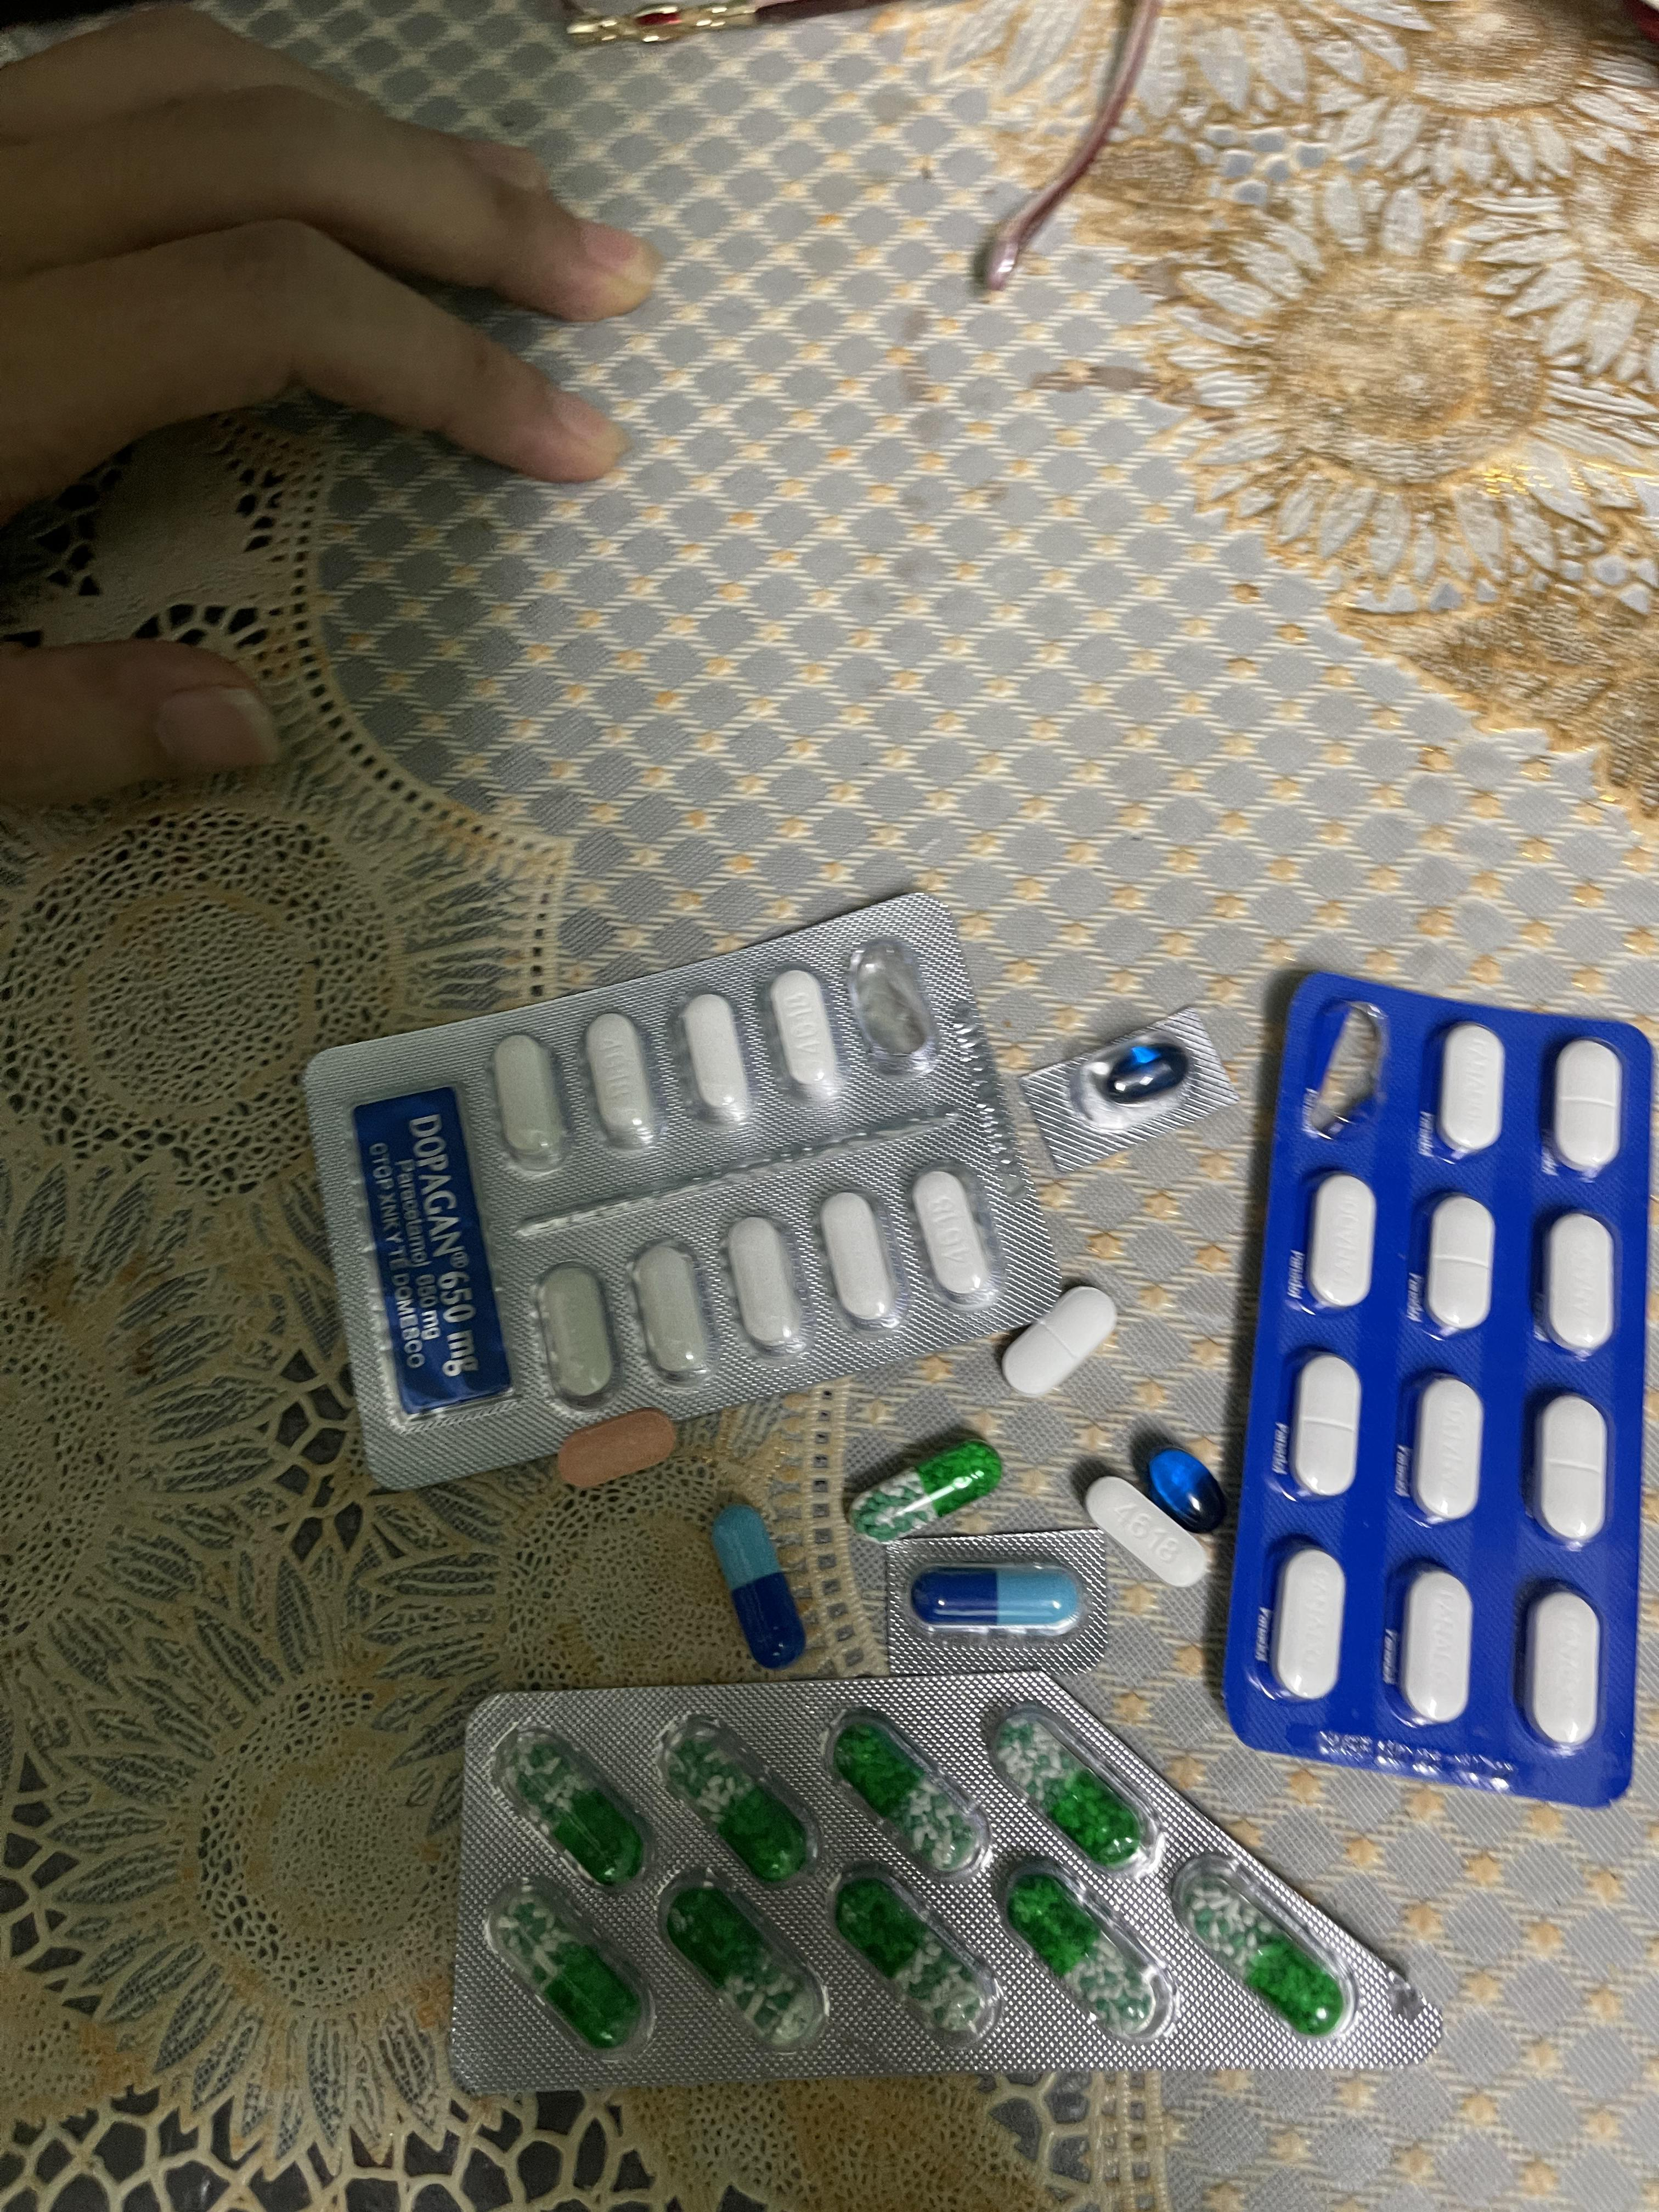Lincomyxin_500mg: (1148, 1447, 1230, 1533), (1100, 1043, 1185, 1104)
Loratadine_10mg: (556, 1407, 680, 1491)
Paracetamol_350mg: (1000, 1285, 1119, 1400), (1523, 1588, 1601, 1749), (1396, 1568, 1473, 1726), (1269, 1548, 1344, 1705), (1408, 1378, 1486, 1526), (1532, 1393, 1608, 1543), (1541, 1212, 1617, 1355), (1290, 1353, 1361, 1500), (1424, 1197, 1497, 1332), (1305, 1176, 1375, 1312), (1551, 1040, 1622, 1172), (1438, 1024, 1506, 1157)
Paracetamol_500mg: (1086, 1474, 1206, 1588), (910, 1174, 1000, 1306), (631, 1245, 716, 1379), (491, 1036, 570, 1172), (537, 1266, 615, 1400), (817, 1193, 897, 1324), (586, 1014, 662, 1150), (769, 972, 847, 1101), (727, 1217, 805, 1346), (681, 993, 755, 1122)
Paracetamol_650mg: (835, 1864, 1006, 2047), (666, 1871, 831, 2048), (1178, 1860, 1340, 2041), (1002, 1860, 1162, 2040), (993, 1705, 1155, 1876), (488, 1881, 648, 2050), (826, 1714, 986, 1872), (662, 1716, 816, 1879), (498, 1730, 650, 1890), (845, 1437, 1007, 1543)
pill: (711, 1501, 805, 1667), (908, 1566, 1084, 1641)
